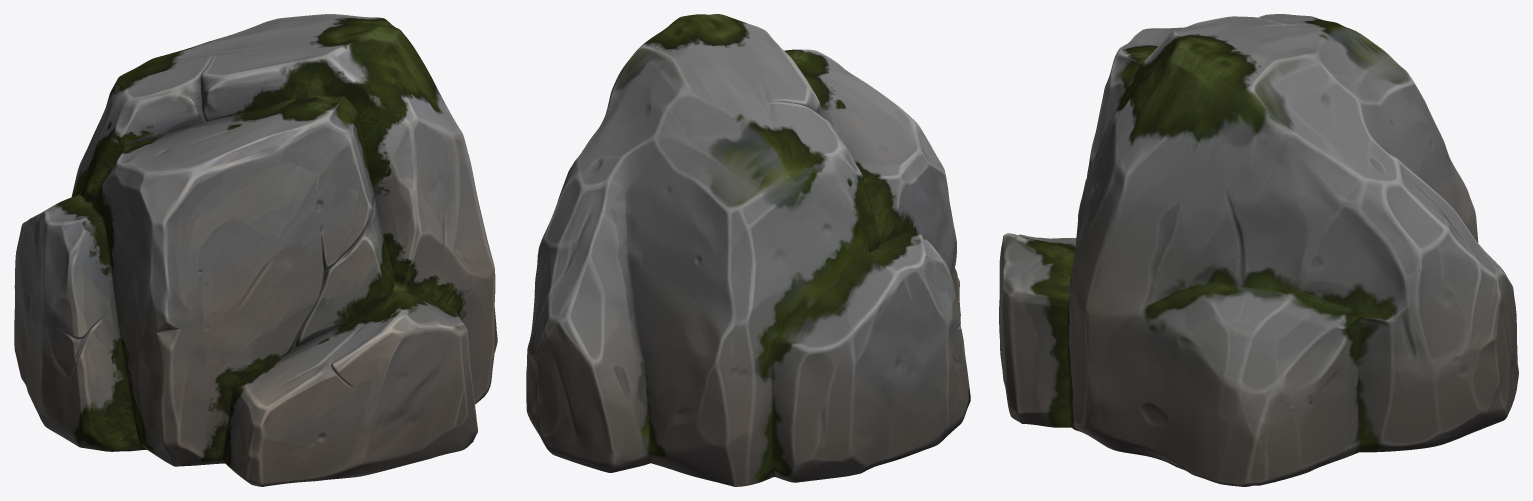
File: Meshy_AI_Stylized_fantasy_survival_RPG_mossy_20261105_texture.fbx
3 views of the same model, side by side, from view 1: azimuth 30°, elevation 25°; view 2: azimuth 150°, elevation 25°; view 3: azimuth 270°, elevation 25° (orthographic). The views are drawn at different scales.
Parts seen in each view (by area): view 1: Mesh_0; view 2: Mesh_0; view 3: Mesh_0.
Boxes of the visible parts, x1,y1,x2,y2 form: Mesh_0: (14, 14, 497, 486); Mesh_0: (526, 14, 970, 486); Mesh_0: (999, 14, 1518, 486).
Size of the model in its own units: 190 by 147 by 190.
Materials: 1 (1 with a texture image).
